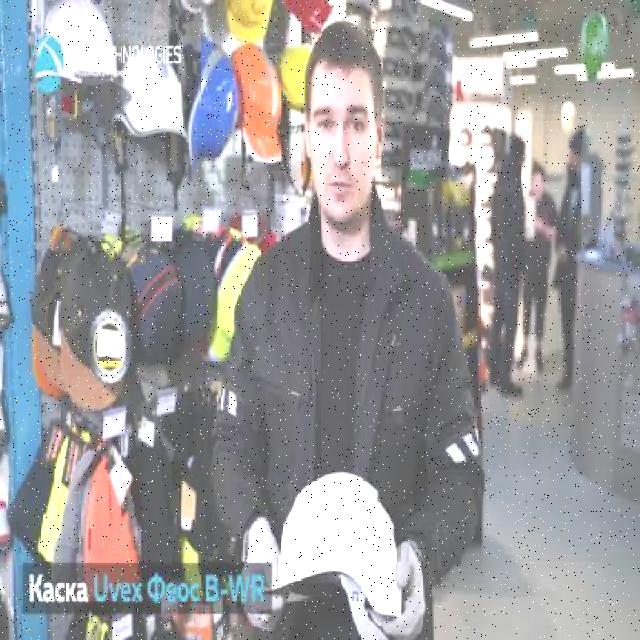Gloves: (370, 538, 428, 638), (239, 514, 287, 630)
Helmet: (264, 470, 408, 638), (186, 30, 240, 190), (38, 0, 124, 94), (117, 49, 191, 143), (232, 42, 286, 166), (220, 0, 280, 46)
